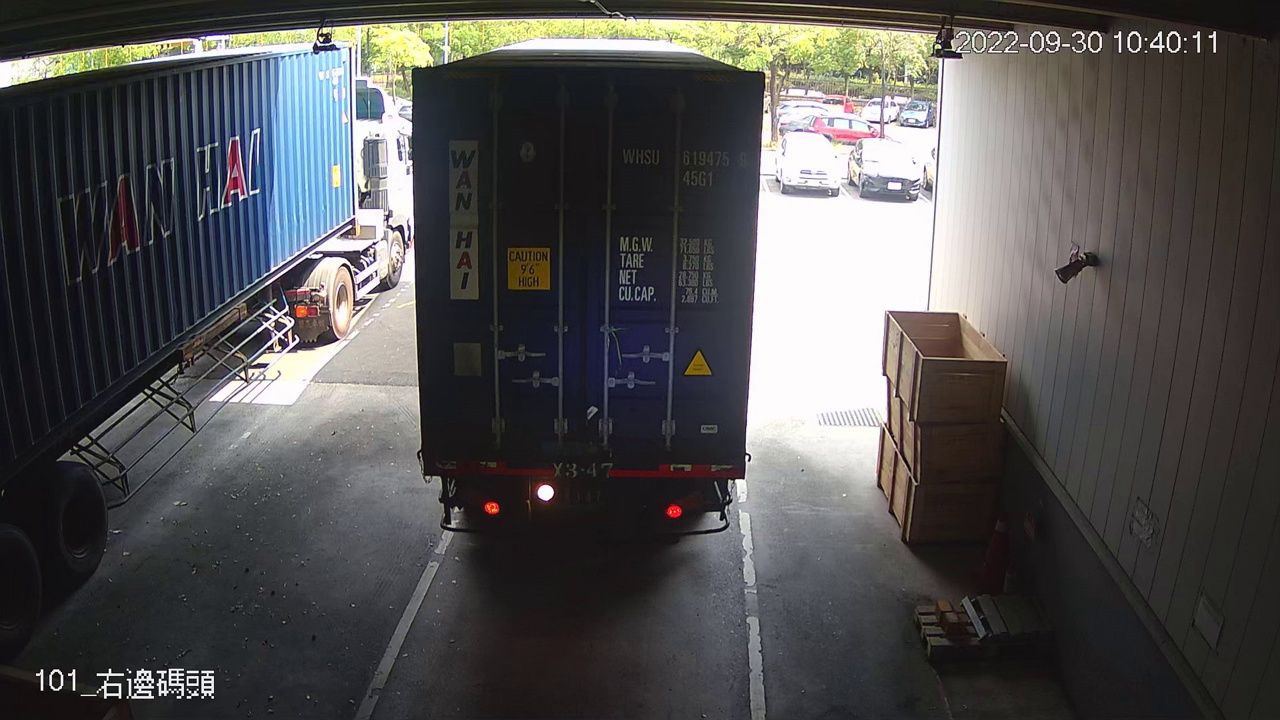container: (616, 141, 751, 194)
